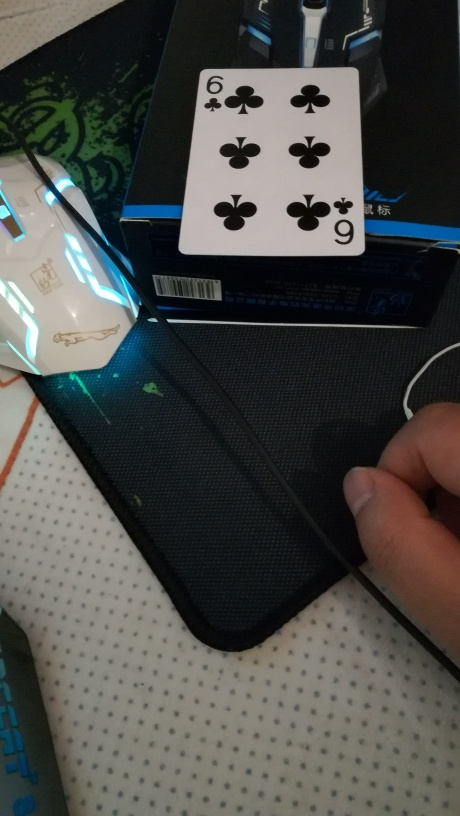mh 6: (181, 65, 367, 256)
